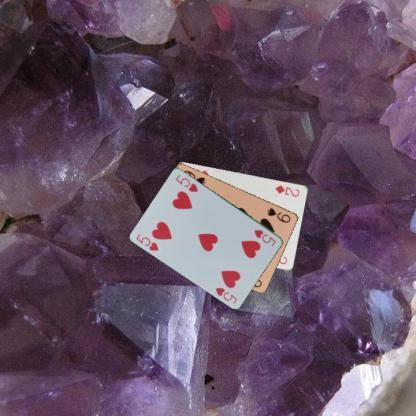2d: (272, 182, 302, 198)
5h: (134, 231, 160, 252), (252, 227, 277, 247)
9s: (264, 205, 292, 224)
